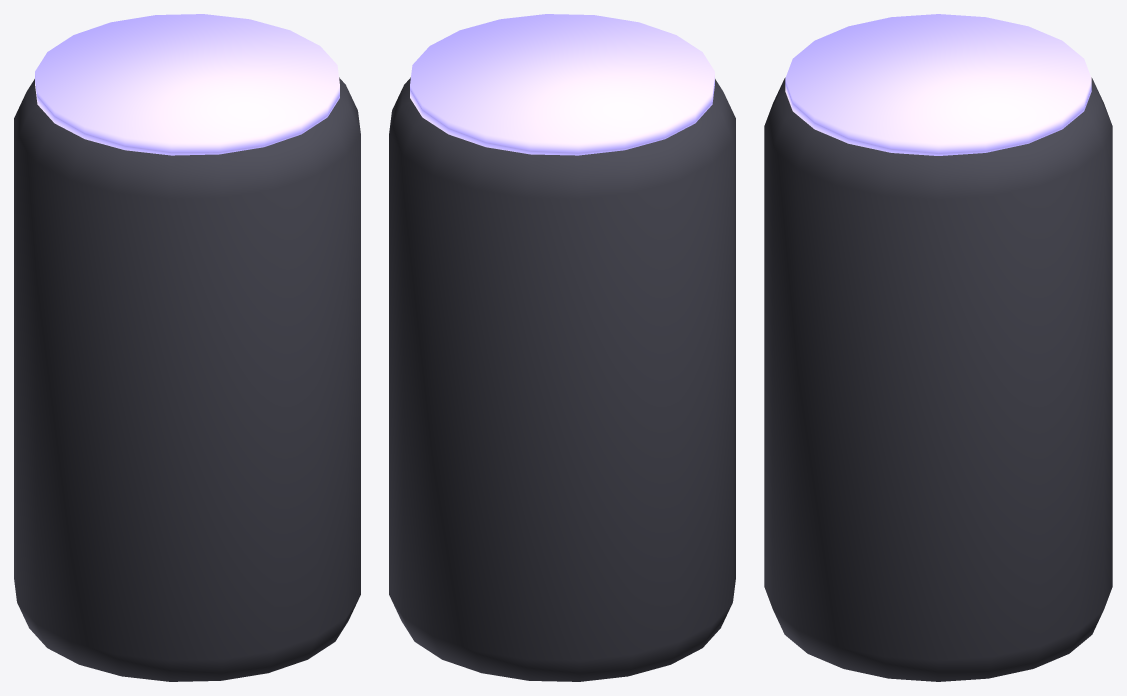
The model's file is senior_smart_speaker.glb.
The picture shows the model from 3 angles, left to right: view 1: azimuth 30°, elevation 25°; view 2: azimuth 150°, elevation 25°; view 3: azimuth 270°, elevation 25°; orthographic projection.
Visible parts, largest first — view 1: senior_smart_speaker__DarkGrey, senior_smart_speaker__SpeakerRing; view 2: senior_smart_speaker__DarkGrey, senior_smart_speaker__SpeakerRing; view 3: senior_smart_speaker__DarkGrey, senior_smart_speaker__SpeakerRing.
Boxes of the visible parts, x1=… form: senior_smart_speaker__DarkGrey: x1=14, y1=77, x2=360, y2=681; senior_smart_speaker__SpeakerRing: x1=35, y1=14, x2=339, y2=155; senior_smart_speaker__DarkGrey: x1=389, y1=77, x2=735, y2=681; senior_smart_speaker__SpeakerRing: x1=410, y1=14, x2=714, y2=155; senior_smart_speaker__DarkGrey: x1=764, y1=77, x2=1112, y2=681; senior_smart_speaker__SpeakerRing: x1=785, y1=14, x2=1091, y2=155.
Bounding box in the file's own units: 0.1 × 0.173 × 0.1.
